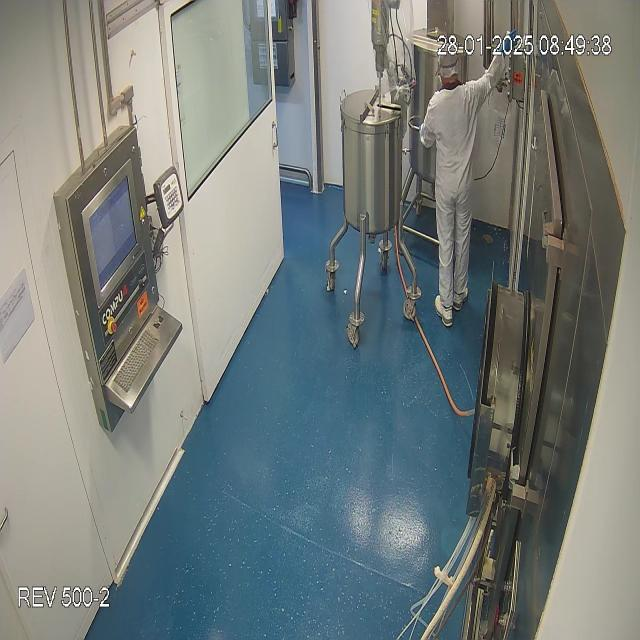bota: (432, 280, 474, 330)
pessoa: (421, 25, 518, 324)
touca: (435, 50, 462, 88)
